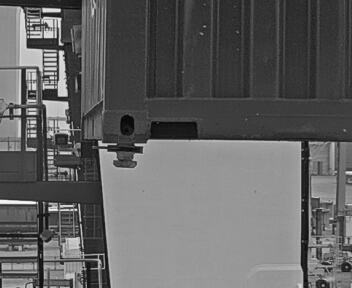twist_lock_1: (99, 133, 149, 175)
